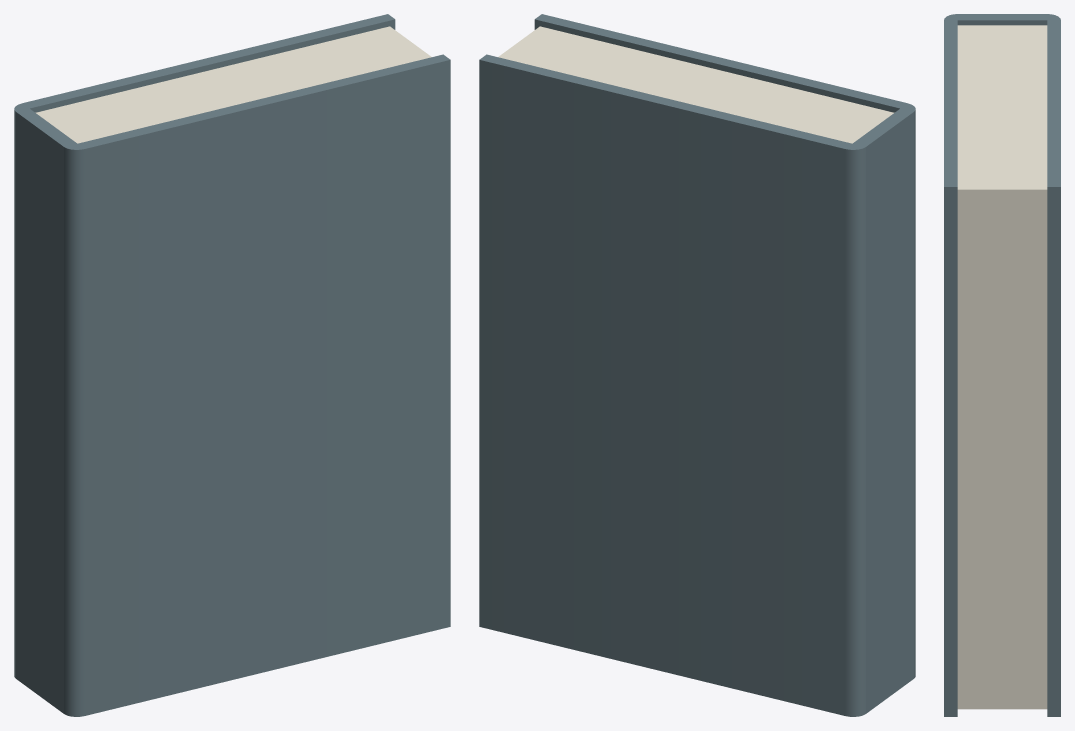
The model's file is book_grey.fbx.
The picture shows the model from 3 angles, left to right: view 1: azimuth 30°, elevation 25°; view 2: azimuth 150°, elevation 25°; view 3: azimuth 270°, elevation 25°; orthographic projection. The views are drawn at different scales.
Parts seen in each view (by area): view 1: Cube, Cube.001; view 2: Cube, Cube.001; view 3: Cube.001, Cube.
Boxes of the visible parts, x1,y1,x2,y2 form: Cube: [14, 14, 450, 716]; Cube.001: [35, 26, 431, 143]; Cube: [479, 14, 915, 716]; Cube.001: [498, 26, 894, 143]; Cube.001: [957, 25, 1047, 709]; Cube: [944, 14, 1060, 716].
Bounding box in the file's own units: 140 × 200 × 40.
